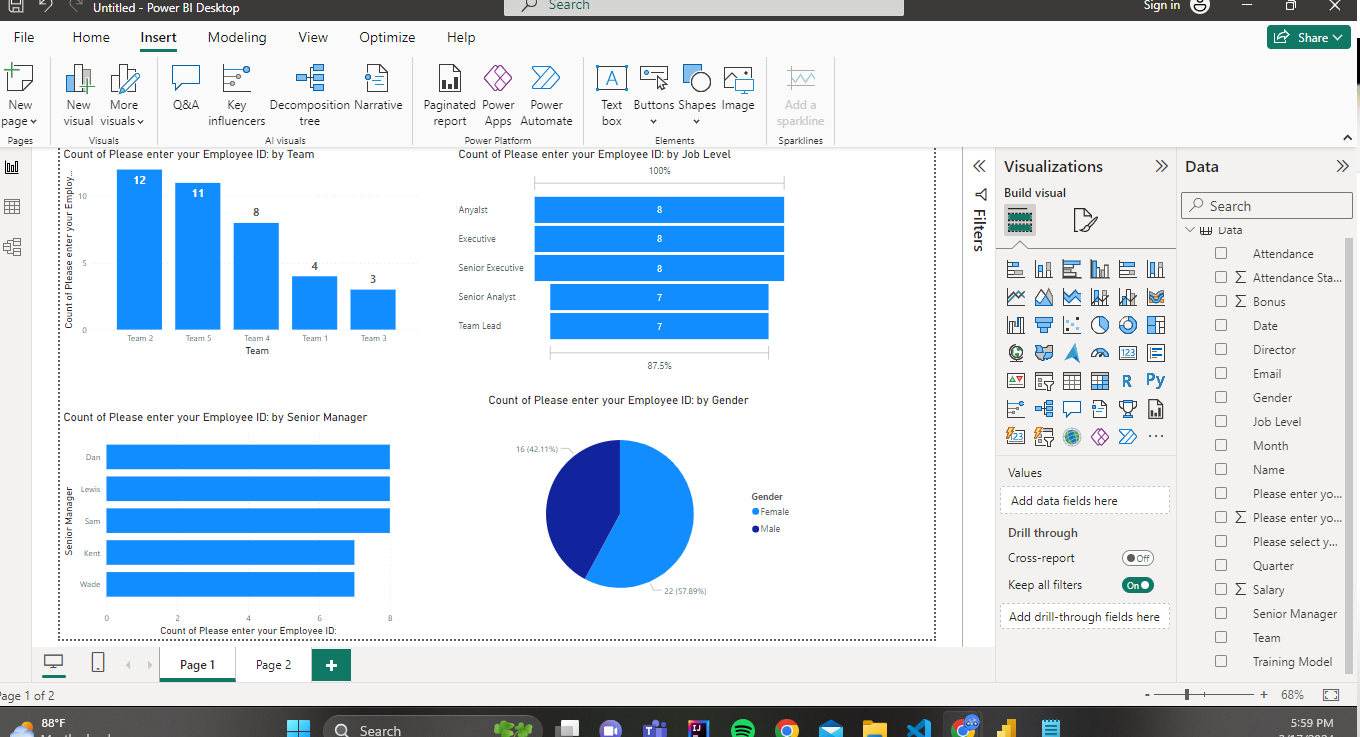

Layout of this report page (visuals, bound fields, positions):
{"tool":"powerbi","page":{"name":"Page 1","canvas":[1280,720],"ordinal":0},"visuals":[{"type":"columnChart","fields":{"Category":["Data.Team"],"Y":["Data.Please enter your Employee ID:"]},"box":[0,0,532.7,310.2],"z":0},{"type":"clusteredBarChart","fields":{"Category":["Data.Senior Manager"],"Y":["Data.Please enter your Employee ID:"]},"box":[0,384.9,491.7,335.1],"z":1},{"type":"funnel","fields":{"Category":["Data.Job Level"],"Y":["Data.Please enter your Employee ID:"]},"box":[578,0,491.7,335.1],"z":2},{"type":"pieChart","fields":{"Category":["Data.Gender"],"Y":["Data.Please enter your Employee ID:"]},"box":[622,360,461,335.1],"z":3}]}

Visuals, with their boxes on the page's 1280x720 design canvas (x1, y1, x2, y2). These are canvas units, not pixel positions in the 1360x737 screenshot, which may show the page scaled, cropped or inside an application window:
columnChart - Data.Team x Data.Please enter your Employee ID:: box=[0, 0, 533, 310]
clusteredBarChart - Data.Senior Manager x Data.Please enter your Employee ID:: box=[0, 385, 492, 720]
funnel - Data.Job Level x Data.Please enter your Employee ID:: box=[578, 0, 1070, 335]
pieChart - Data.Gender x Data.Please enter your Employee ID:: box=[622, 360, 1083, 695]
